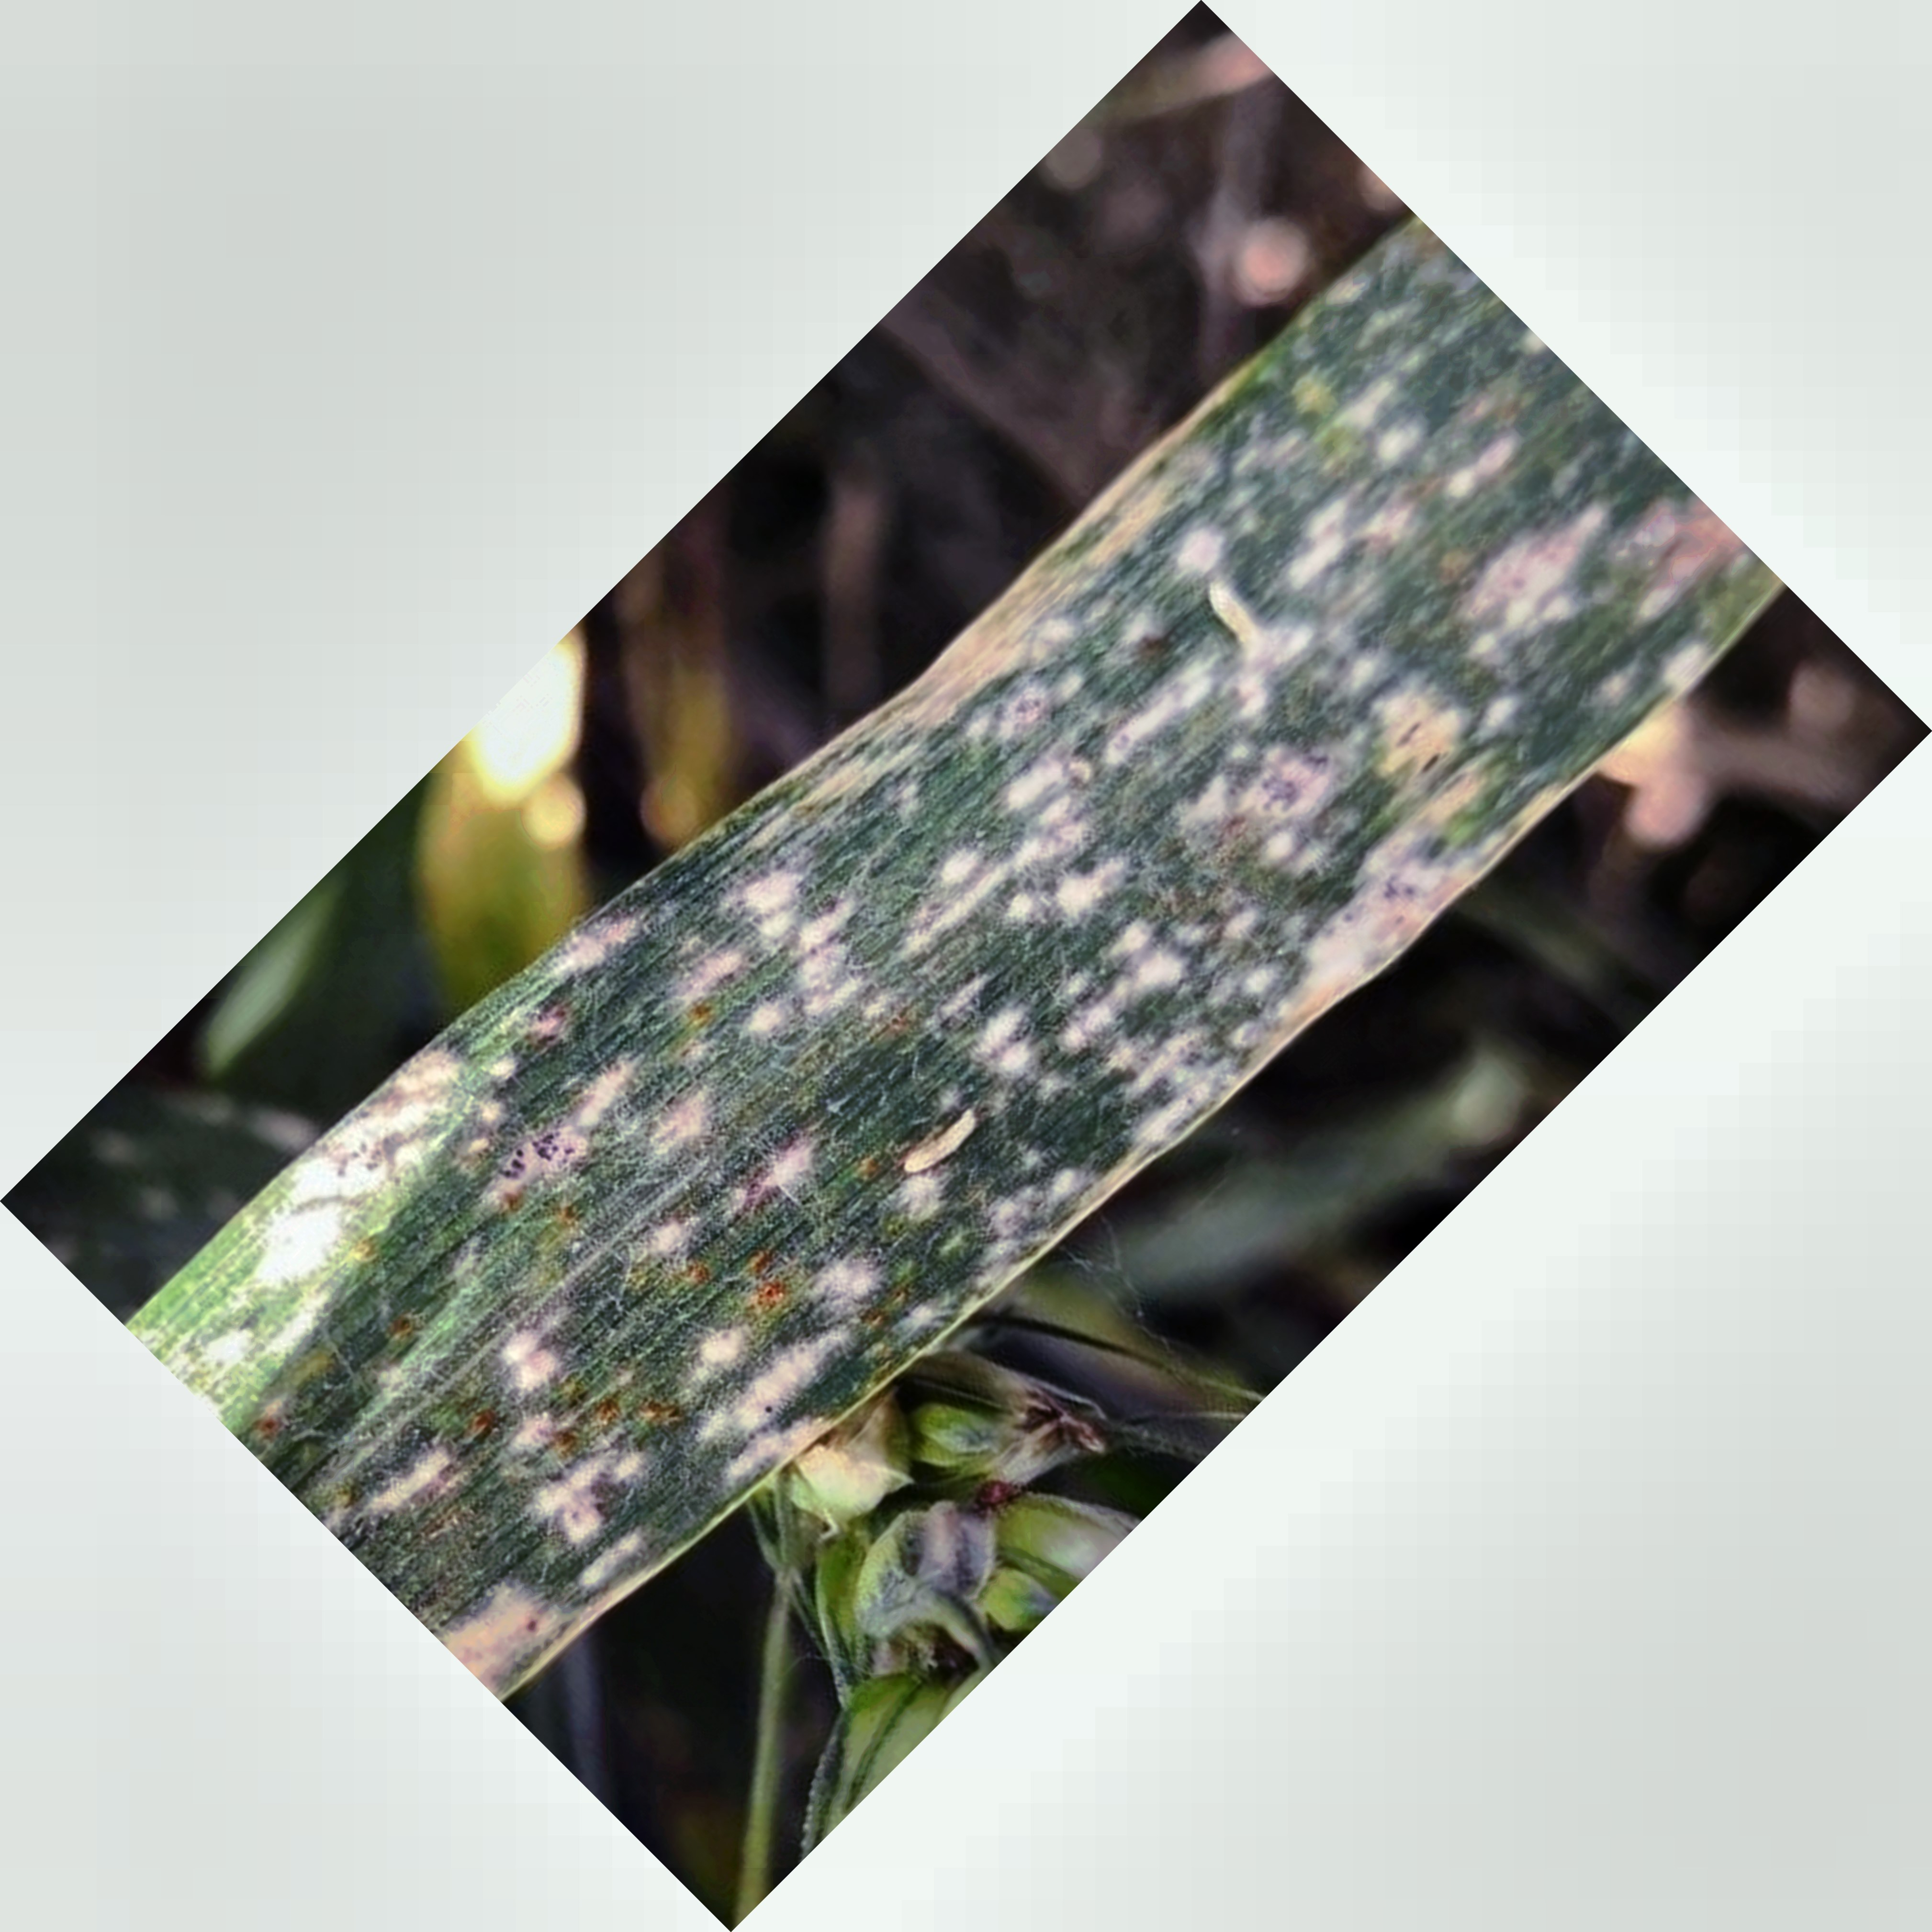Powdery Mildew: (472, 428, 1493, 1511)
